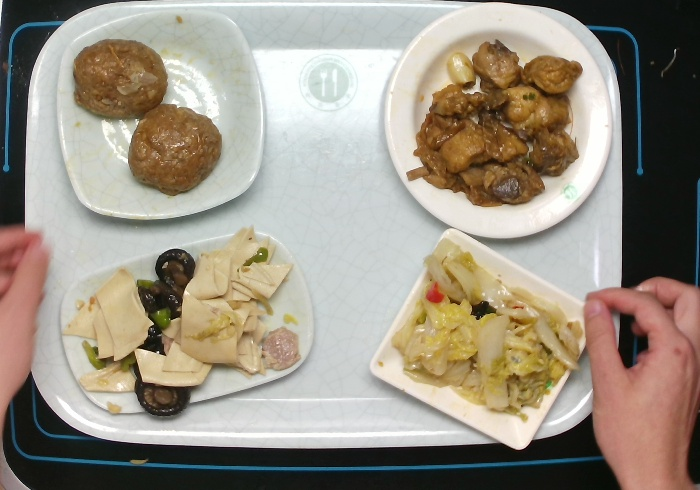WCQzf-Bai_Se_Si_Fang_Die: (367, 224, 601, 454)
WCQzf-Da_Si_Fang_Die: (57, 10, 265, 224)
WCQzf-Kuan_Bian_Yuan_Die: (383, 1, 613, 242)
WCQzf-Tuo_Yuan_Pan: (57, 229, 316, 424)
